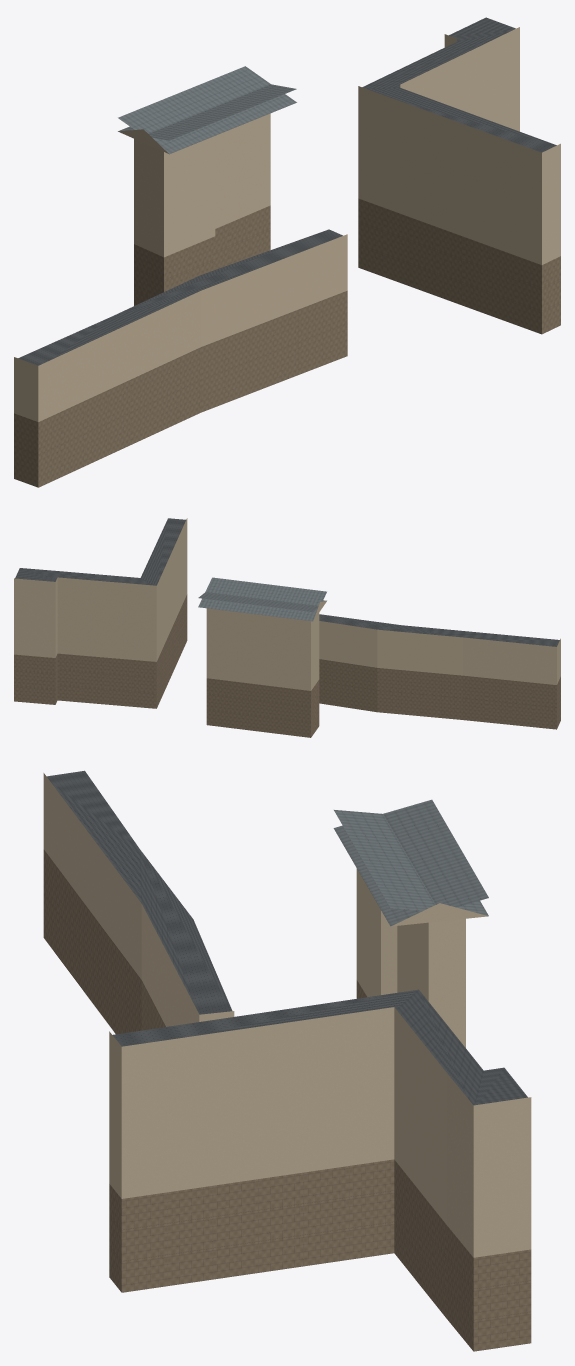
The model's file is bld_c1_0_535.gltf.
3 renders of one model, top to bottom at view 1: azimuth 30°, elevation 25°; view 2: azimuth 150°, elevation 25°; view 3: azimuth 270°, elevation 25°, orthographic. The views are drawn at different scales.
Parts seen in each view (by area): view 1: bld_c1_0_535; view 2: bld_c1_0_535; view 3: bld_c1_0_535.
Boxes of the visible parts, x1,y1,x2,y2 form: bld_c1_0_535: (14,17,560,487); bld_c1_0_535: (14,518,560,737); bld_c1_0_535: (43,770,531,1351).
Size of the model in its own units: 50.04 by 15.5 by 24.03.
Materials: 5 (5 with a texture image).
